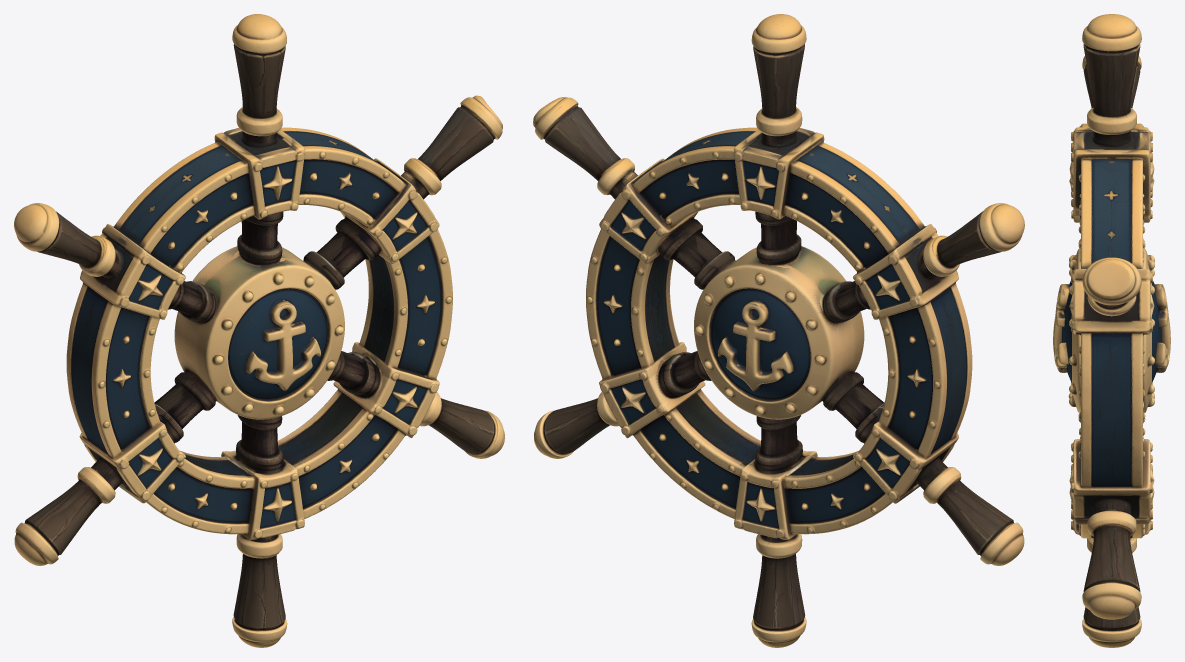
The model's file is Ship Steering Wheel Anchor.glb.
3 renders of one model, left to right at view 1: azimuth 30°, elevation 25°; view 2: azimuth 150°, elevation 25°; view 3: azimuth 270°, elevation 25°, orthographic.
Bounding box in the file's own units: 1.53 × 1.9 × 0.323.
Materials: 1 (1 with a texture image).
